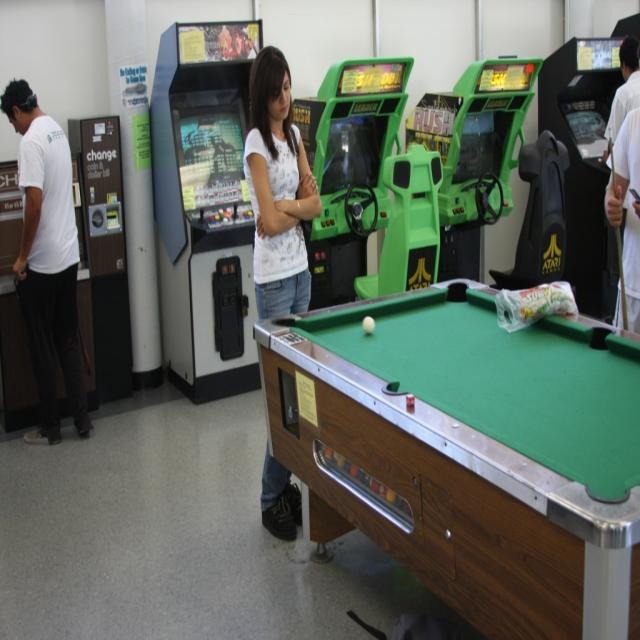Billiard table: (252, 279, 640, 639)
